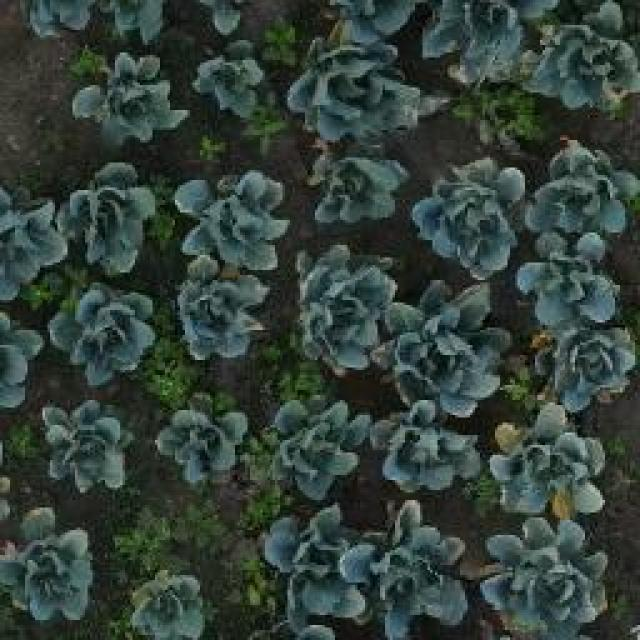cabbage: (389, 279, 507, 415), (282, 39, 431, 140), (359, 506, 477, 629), (480, 522, 610, 630), (488, 402, 600, 520), (517, 127, 640, 234), (296, 241, 390, 377), (414, 159, 524, 274), (264, 516, 364, 638), (527, 0, 640, 104), (513, 227, 627, 327), (374, 395, 486, 495), (270, 395, 372, 502), (51, 286, 159, 386), (0, 510, 94, 617), (62, 164, 154, 273), (180, 172, 282, 270), (74, 55, 183, 141), (310, 141, 410, 231), (420, 0, 552, 68), (534, 329, 640, 407), (160, 401, 251, 489), (40, 399, 128, 490), (176, 275, 266, 357), (129, 568, 205, 640), (195, 55, 268, 116)
